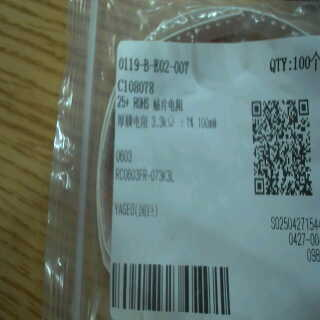3.3kO: (150, 112, 180, 135)
